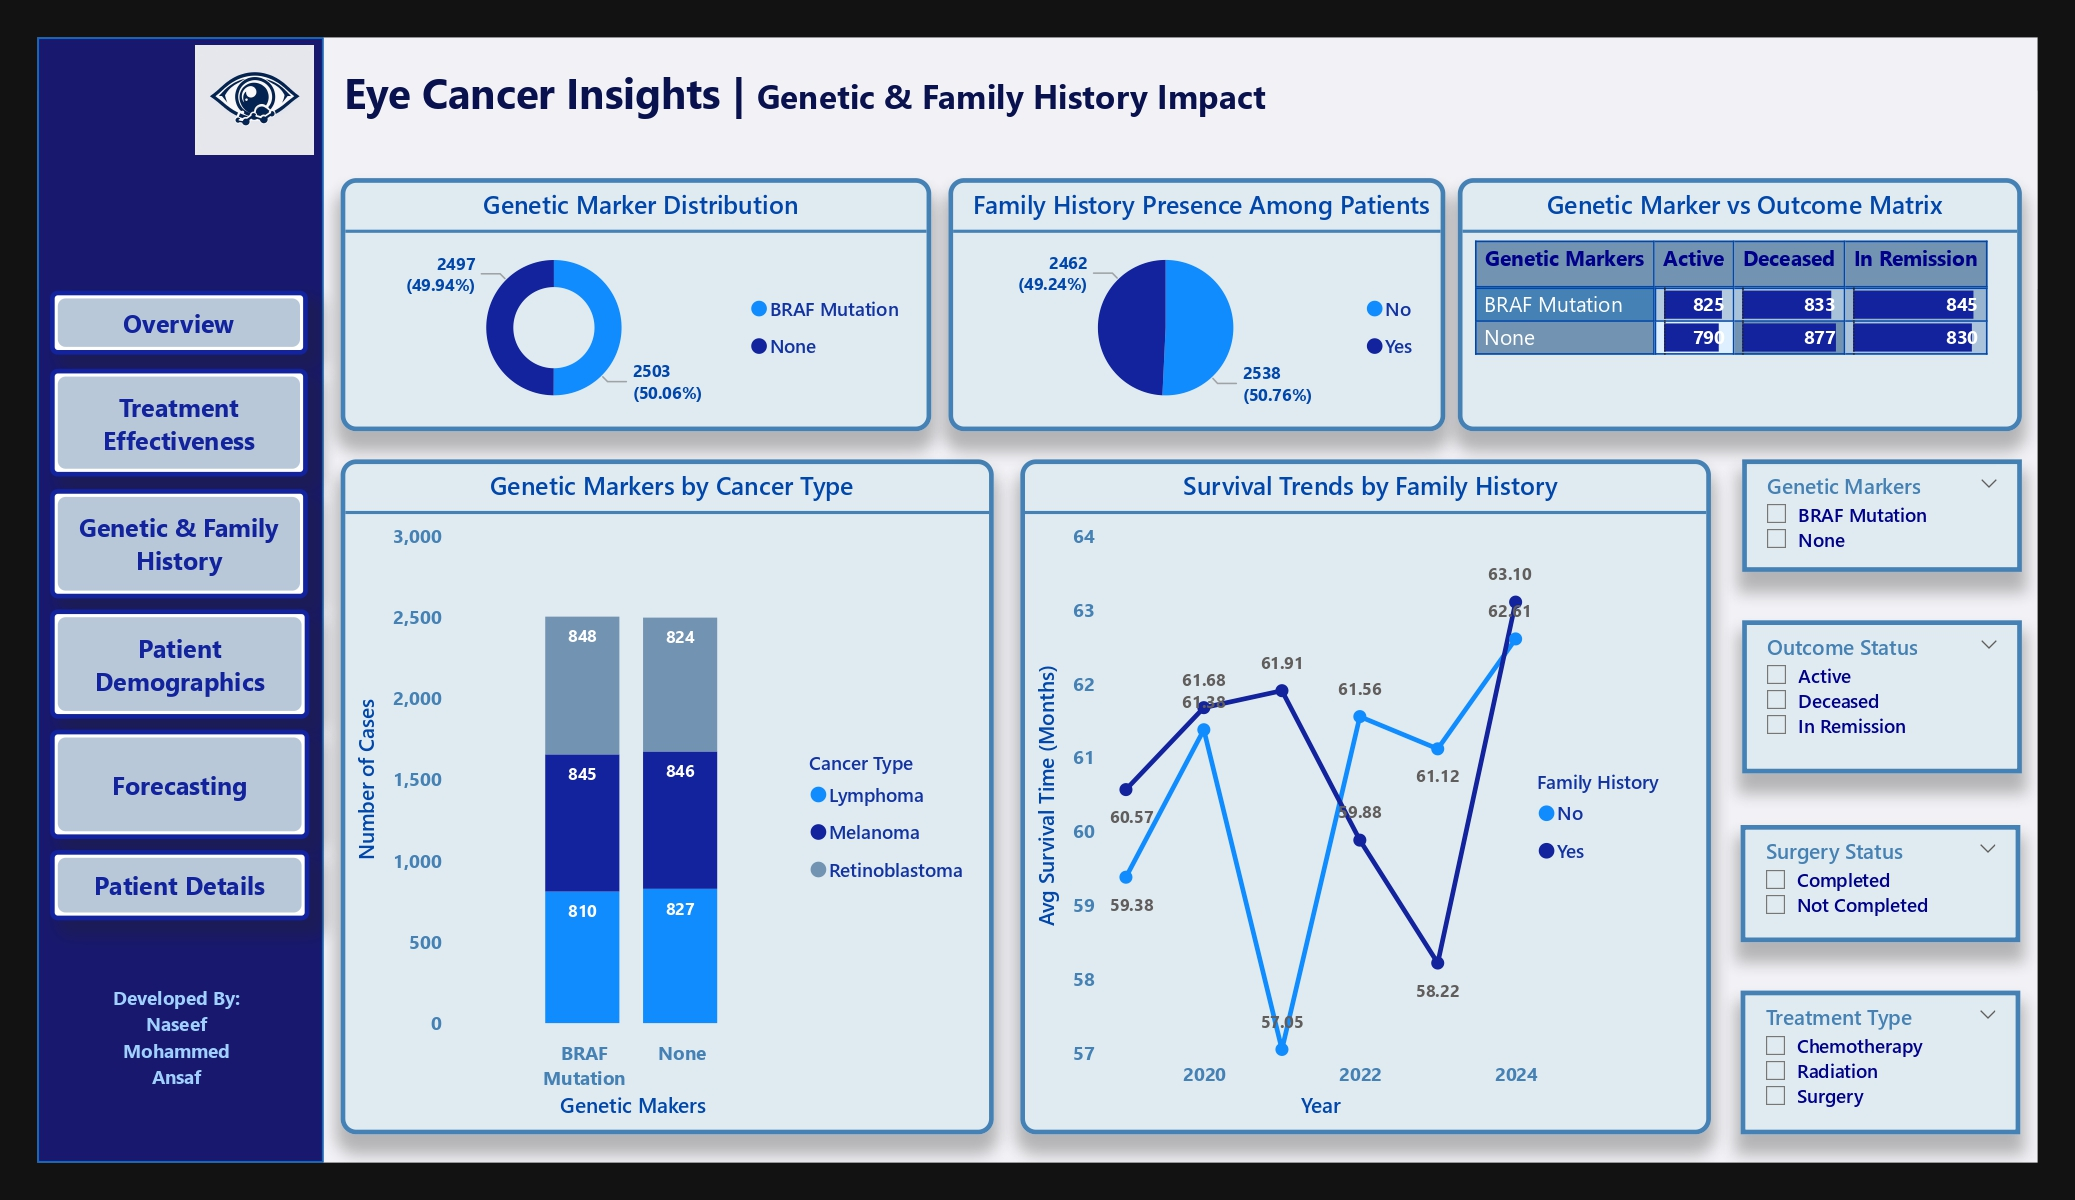

What the dashboard file says about the page in this screenshot:
{"tool":"powerbi","page":{"name":"Genetic & Family History","canvas":[1280,720],"ordinal":2},"visuals":[{"type":"shape","box":[0,0,182.8,720.2],"z":0},{"type":"textbox","box":[182.8,12.3,616,47.9],"z":1000},{"type":"image","box":[96.5,0,85.9,80],"z":2000},{"type":"slicer","fields":{"Values":["Eye cancer patients dataset_cleaned.Genetic_Markers"]},"box":[1090.8,269.9,179.1,72.4],"z":3000},{"type":"donutChart","title":"Genetic Marker Distribution","fields":{"Y":["CountNonNull(Eye cancer patients dataset_cleaned.Genetic_Markers)"],"Category":["Eye cancer patients dataset_cleaned.Genetic_Markers"]},"box":[193.9,89.6,377.9,162],"z":4000},{"type":"columnChart","title":"Genetic Markers by Cancer Type","fields":{"Category":["Eye cancer patients dataset_cleaned.Genetic_Markers"],"Y":["CountNonNull(Eye cancer patients dataset_cleaned.Patient_ID)"],"Series":["Eye cancer patients dataset_cleaned.Cancer_Type"]},"box":[193.9,269.9,418.4,431.9],"z":5000},{"type":"pieChart","title":"Family History Presence Among Patients","fields":{"Y":["CountNonNull(Eye cancer patients dataset_cleaned.Family_History)"],"Category":["Eye cancer patients dataset_cleaned.Family_History"]},"box":[582.8,89.6,317.8,162],"z":6000},{"type":"pivotTable","title":"Genetic Marker vs Outcome Matrix","fields":{"Rows":["Eye cancer patients dataset_cleaned.Genetic_Markers"],"Columns":["Eye cancer patients dataset_cleaned.Outcome_Status"],"Values":["CountNonNull(Eye cancer patients dataset_cleaned.Patient_ID)"]},"box":[909.2,89.6,360.7,162],"z":7000},{"type":"lineChart","title":"Survival Trends by Family History","fields":{"Category":["Eye cancer patients dataset_cleaned.Date_of_Diagnosis.Variation.Date Hierarchy.Year"],"Y":["Avg(Eye cancer patients dataset_cleaned.Survival_Time_Months)"],"Series":["Eye cancer patients dataset_cleaned.Family_History"]},"box":[629.5,269.9,441.7,431.9],"z":8000},{"type":"slicer","fields":{"Values":["Eye cancer patients dataset_cleaned.Outcome_Status"]},"box":[1090.8,373,179.1,98.2],"z":9000},{"type":"slicer","fields":{"Values":["Eye cancer patients dataset_cleaned.Surgery_Status"]},"box":[1089.6,504.3,179.1,74.8],"z":10000},{"type":"slicer","fields":{"Values":["Eye cancer patients dataset_cleaned.Treatment_Type"]},"box":[1089.6,609.8,179.1,92],"z":11000},{"type":"actionButton","box":[7.6,162.5,165.6,40.5],"z":11001},{"type":"actionButton","box":[7.6,211.5,165.6,69.9],"z":11002},{"type":"actionButton","box":[7.6,288.9,165.6,69.9],"z":11003},{"type":"actionButton","box":[8.4,365.8,165.6,69.9],"z":11004},{"type":"actionButton","box":[8.4,443.1,165.6,69.9],"z":11005},{"type":"actionButton","box":[8.4,520.4,165.6,44.2],"z":11006},{"type":"textbox","box":[38,600,101.8,85.9],"z":11007}]}

Visuals, with their boxes on the page's 1280x720 design canvas (x1, y1, x2, y2). These are canvas units, not pixel positions in the 2075x1200 screenshot, which may show the page scaled, cropped or inside an application window:
shape: [x1=0, y1=0, x2=183, y2=720]
textbox: [x1=183, y1=12, x2=799, y2=60]
image: [x1=96, y1=0, x2=182, y2=80]
slicer - Eye cancer patients dataset_cleaned.Genetic_Markers: [x1=1091, y1=270, x2=1270, y2=342]
"Genetic Marker Distribution" donutChart: [x1=194, y1=90, x2=572, y2=252]
"Genetic Markers by Cancer Type" columnChart: [x1=194, y1=270, x2=612, y2=702]
"Family History Presence Among Patients" pieChart: [x1=583, y1=90, x2=901, y2=252]
"Genetic Marker vs Outcome Matrix" pivotTable: [x1=909, y1=90, x2=1270, y2=252]
"Survival Trends by Family History" lineChart: [x1=630, y1=270, x2=1071, y2=702]
slicer - Eye cancer patients dataset_cleaned.Outcome_Status: [x1=1091, y1=373, x2=1270, y2=471]
slicer - Eye cancer patients dataset_cleaned.Surgery_Status: [x1=1090, y1=504, x2=1269, y2=579]
slicer - Eye cancer patients dataset_cleaned.Treatment_Type: [x1=1090, y1=610, x2=1269, y2=702]
actionButton: [x1=8, y1=162, x2=173, y2=203]
actionButton: [x1=8, y1=212, x2=173, y2=281]
actionButton: [x1=8, y1=289, x2=173, y2=359]
actionButton: [x1=8, y1=366, x2=174, y2=436]
actionButton: [x1=8, y1=443, x2=174, y2=513]
actionButton: [x1=8, y1=520, x2=174, y2=565]
textbox: [x1=38, y1=600, x2=140, y2=686]
